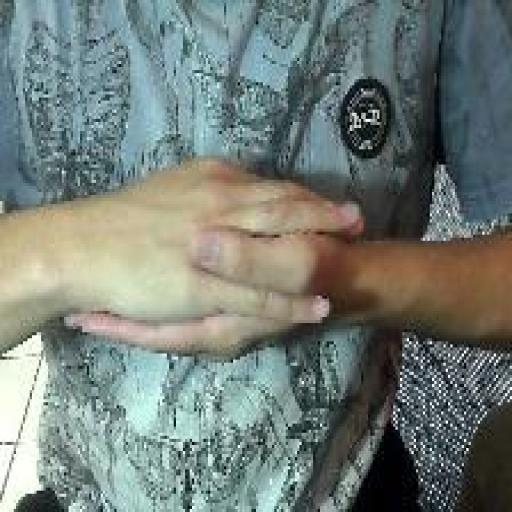Saru -monkey-: (56, 143, 369, 372)
